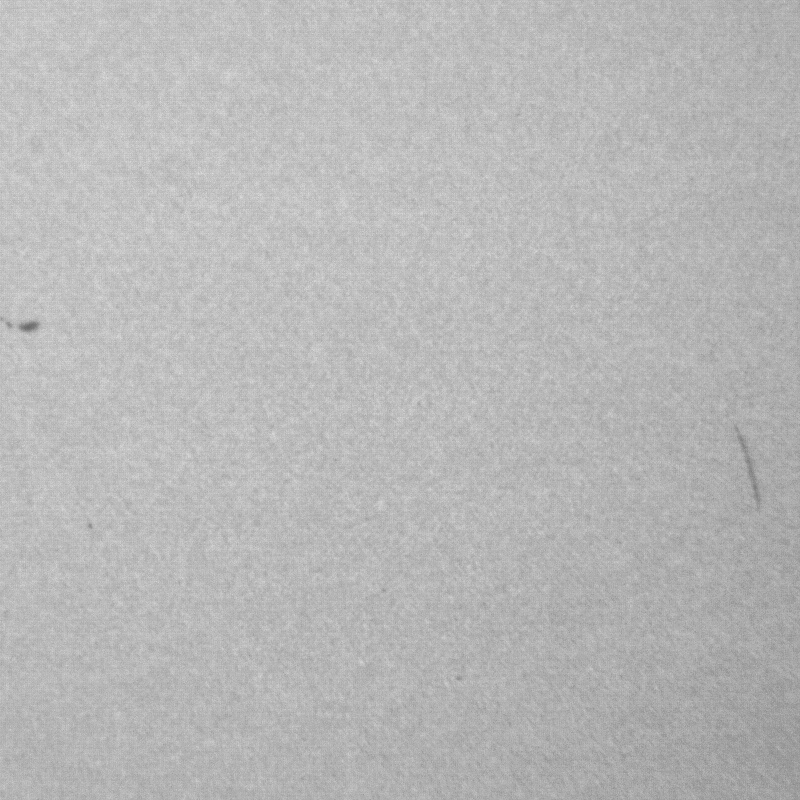defect: (736, 432, 763, 512), (2, 315, 48, 337)
